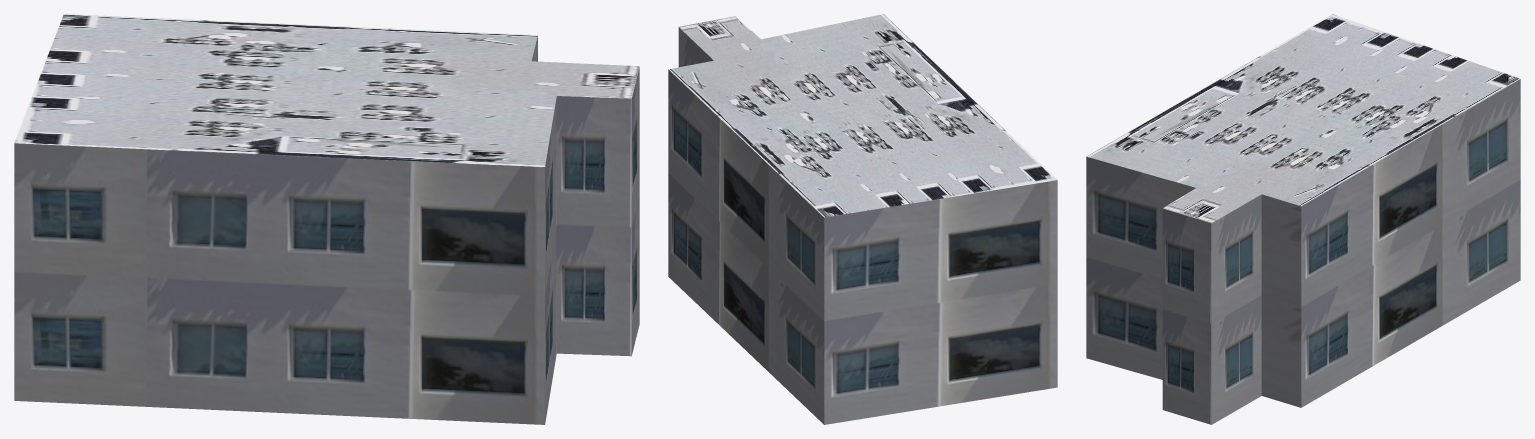
The model's file is ResTex__323.fbx.
3 views of the same model, side by side, from view 1: azimuth 30°, elevation 25°; view 2: azimuth 150°, elevation 25°; view 3: azimuth 270°, elevation 25° (orthographic). The views are drawn at different scales.
Visible parts, largest first — view 1: CityEngineMaterial_10_m, CityEngineMaterial_m; view 2: CityEngineMaterial_10_m, CityEngineMaterial_m; view 3: CityEngineMaterial_10_m, CityEngineMaterial_m.
Boxes of the visible parts, x1,y1,x2,y2 form: CityEngineMaterial_10_m: [14, 36, 639, 424]; CityEngineMaterial_m: [14, 14, 639, 167]; CityEngineMaterial_10_m: [668, 27, 1057, 424]; CityEngineMaterial_m: [669, 14, 1057, 217]; CityEngineMaterial_10_m: [1086, 79, 1520, 424]; CityEngineMaterial_m: [1087, 14, 1520, 223].
Size of the model in its own units: 13.36 by 6 by 11.72.
2 materials, 2 textured.
